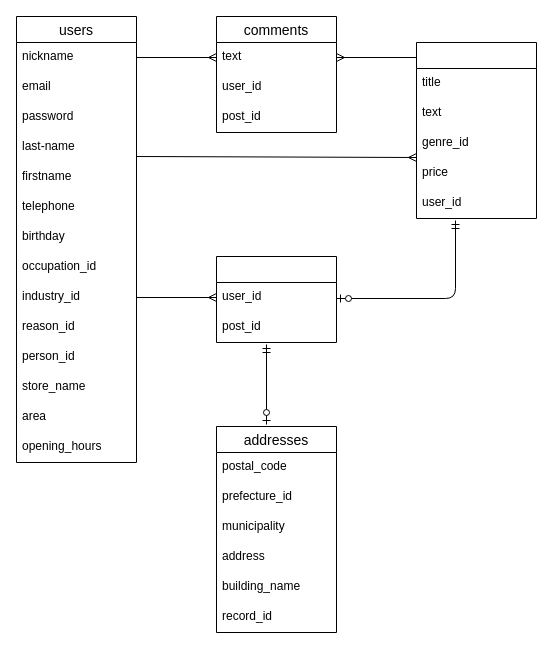
Some shapes in this 553 by 649 pixel diagram are drawn without their labels. Each missing label, with the box of its shape:
posts: (416, 42, 536, 218)
records: (216, 256, 336, 342)
